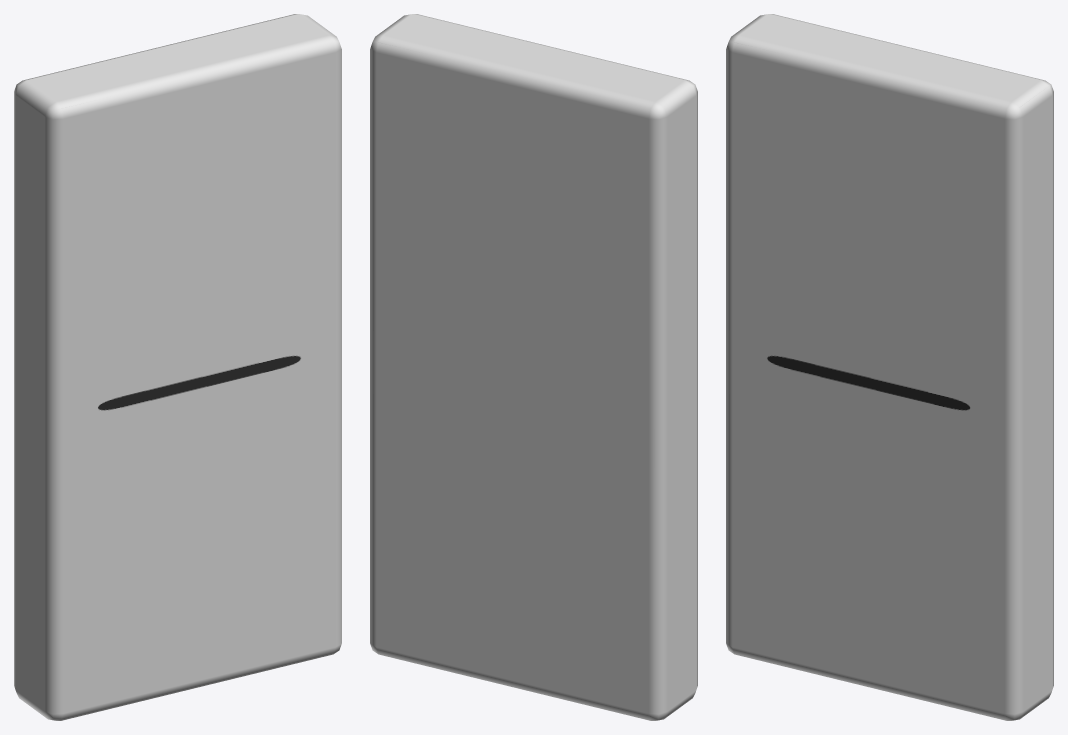
The picture shows the model from 3 angles, left to right: view 1: azimuth 30°, elevation 25°; view 2: azimuth 150°, elevation 25°; view 3: azimuth 330°, elevation 25°; orthographic projection.
Visible parts, largest first — view 1: Low; view 2: Low; view 3: Low.
Boxes of the visible parts, bbox=[...] form: Low: bbox=[14, 14, 341, 720]; Low: bbox=[370, 14, 697, 720]; Low: bbox=[726, 14, 1053, 720].
Size of the model in its own units: 0.0254 by 0.0508 by 0.00635.
Materials: 1 (1 with a texture image).
